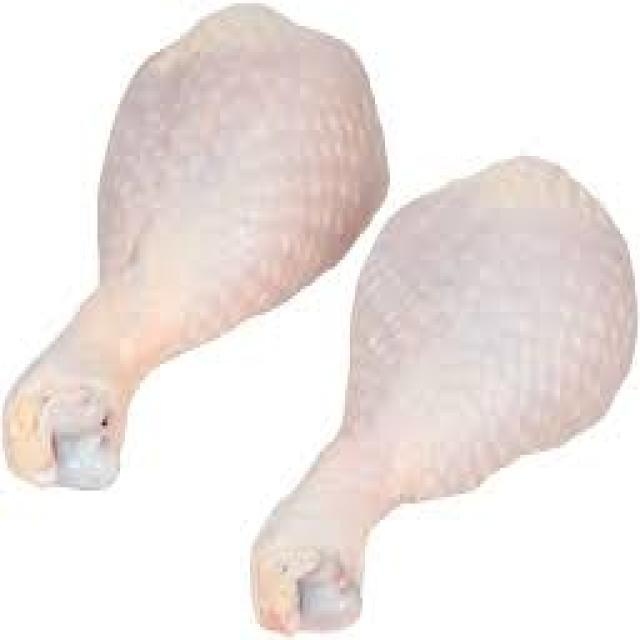leg: (252, 142, 640, 628), (25, 0, 385, 500)
